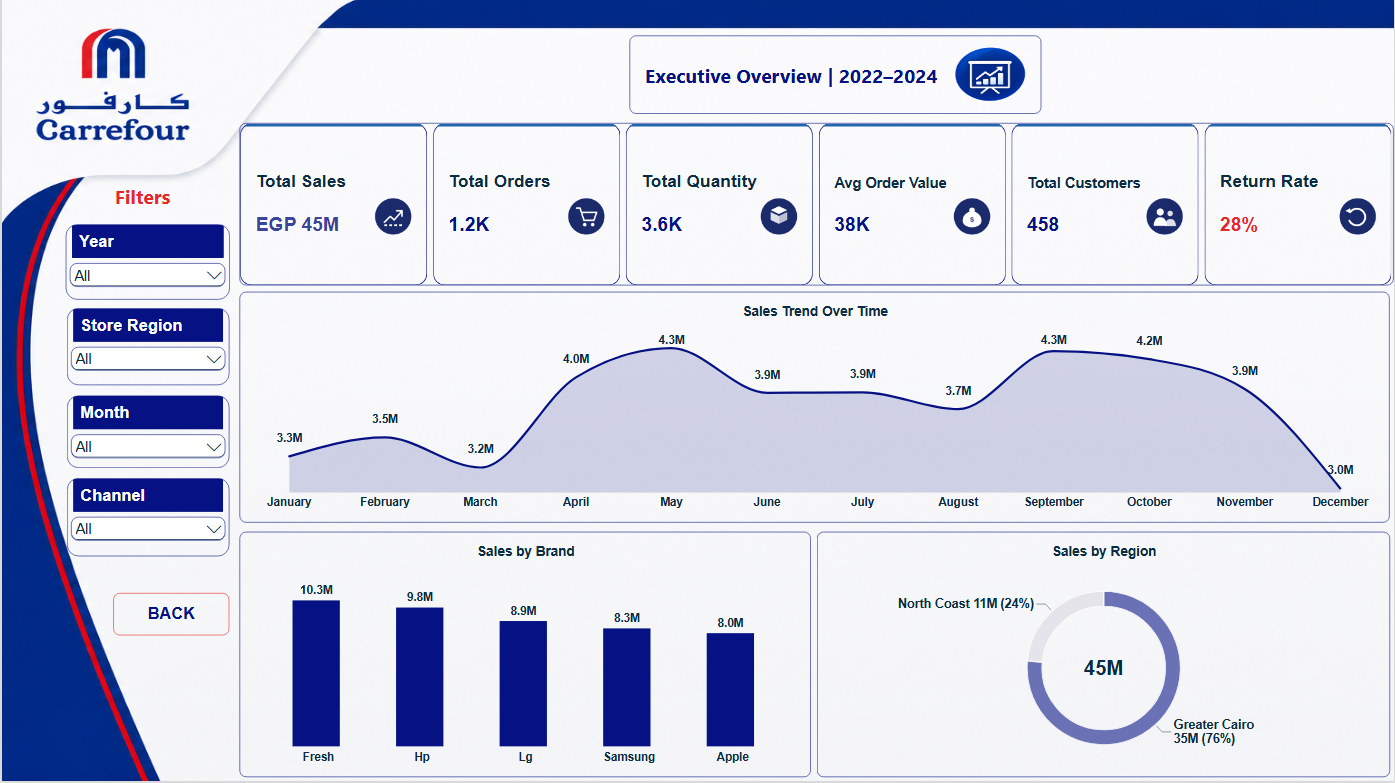

This screenshot's page, from the dashboard's own definition file:
{"tool":"powerbi","page":{"name":"Executive Overview","canvas":[1920,1080],"ordinal":1},"visuals":[{"type":"cardVisual","fields":{"Data":["Sales.Total Sales *","Sales.Total Orders","Sales.Total Quantity","Sales.AOV","Sales.Total Customers","Sales.Return Rate"]},"box":[328,172,1592,224],"z":0},{"type":"lineChart","title":"Sales Trend Over Time","fields":{"Y":["Sales.Total Sales *"],"Category":["DimDate.Date.Variation.Date Hierarchy.Month"]},"box":[328,406,1586,318],"z":1000},{"type":"columnChart","title":"Sales by Brand","fields":{"Category":["Sales.Brand"],"Y":["Sales.Total Sales *"]},"box":[328,736,788,338],"z":2000},{"type":"donutChart","title":"Sales by Region","fields":{"Category":["Sales.Store Region"],"Y":["Sales.Total Sales *"]},"box":[1124,736,790,338],"z":3000},{"type":"actionButton","box":[154,820,160,58],"z":4000},{"type":"shape","box":[866,52,568,108],"z":5000},{"type":"slicer","fields":{"Values":["DimDate.Date.Variation.Date Hierarchy.Year"]},"box":[88,312,226,104],"z":6000},{"type":"slicer","fields":{"Values":["Sales.Store Region"]},"box":[90,428,224,106],"z":7000},{"type":"slicer","fields":{"Values":["DimDate.Date.Variation.Date Hierarchy.Month"]},"box":[90,548,224,100],"z":8000},{"type":"slicer","fields":{"Values":["Sales.OrderChannel"]},"box":[90,662,224,108],"z":9000},{"type":"shape","box":[74,238,239.6,66],"z":10000},{"type":"image","box":[1292,48,142,116],"z":11000}]}

Visuals, with their boxes in screenshot pixels (x1, y1, x2, y2), scaled from the page's 1920x1080 canvas onto the 1395x783 screenshot:
cardVisual - Sales.Total Sales * x Sales.Total Orders: 238, 125, 1394, 287
"Sales Trend Over Time" lineChart: 238, 294, 1391, 525
"Sales by Brand" columnChart: 238, 534, 811, 779
"Sales by Region" donutChart: 817, 534, 1391, 779
actionButton: 112, 594, 228, 637
shape: 629, 38, 1042, 116
slicer - DimDate.Date.Variation.Date Hierarchy.Year: 64, 226, 228, 302
slicer - Sales.Store Region: 65, 310, 228, 387
slicer - DimDate.Date.Variation.Date Hierarchy.Month: 65, 397, 228, 470
slicer - Sales.OrderChannel: 65, 480, 228, 558
shape: 54, 173, 228, 220
image: 939, 35, 1042, 119
